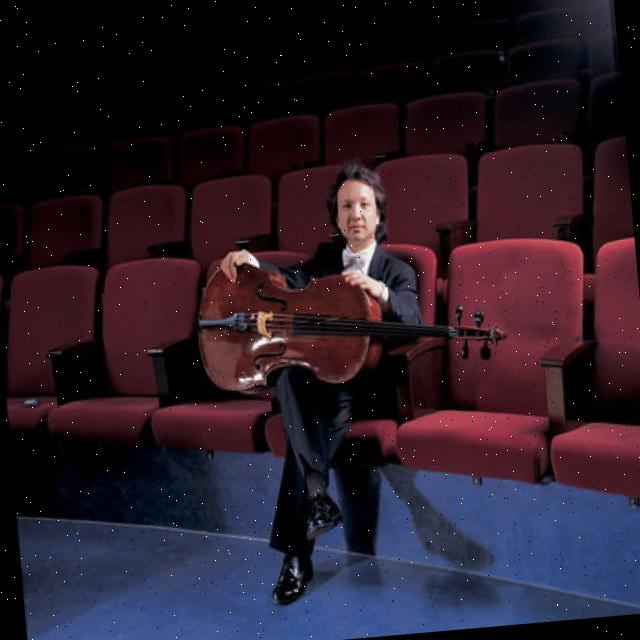cello: (180, 230, 520, 401)
